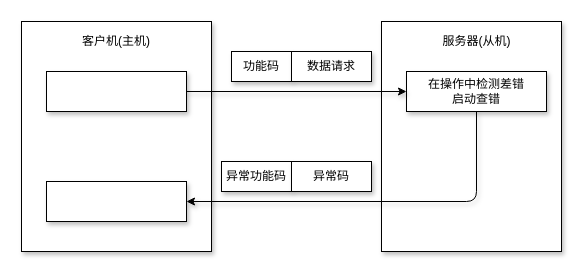
Some shapes in this 585 by 276 pixel diagram are drawn without their labels. Here are the shapes that lost their labels. From the top down, the centre of each, then its label:
At point 117,92: "启动请求".
At point 117,202: "接受响应".
